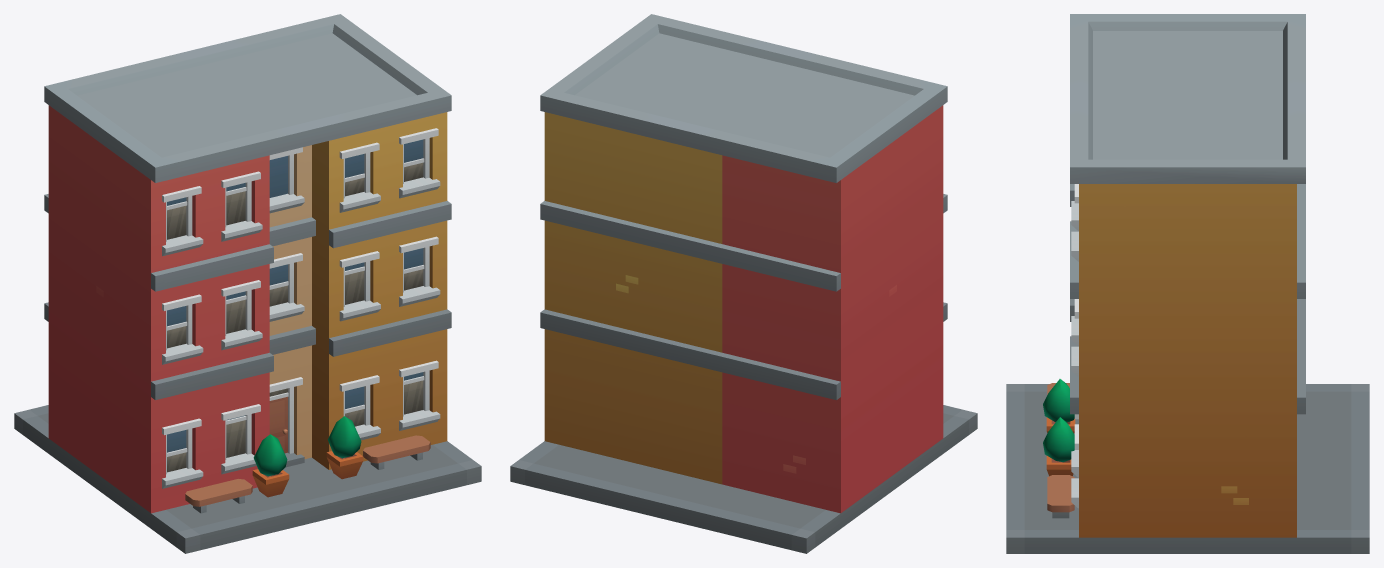
The model's file is building_free_model_b_b_b_b_b.glb.
3 renders of one model, left to right at view 1: azimuth 30°, elevation 25°; view 2: azimuth 150°, elevation 25°; view 3: azimuth 270°, elevation 25°, orthographic. The views are drawn at different scales.
Parts seen in each view (by area): view 1: building_F; view 2: building_F; view 3: building_F.
Part boxes in pixels (x1,y1,x2,y2): building_F: [14, 14, 481, 553]; building_F: [510, 14, 977, 553]; building_F: [1006, 14, 1369, 553].
Size of the model in its own units: 2.01 by 2.35 by 2.
Materials: 1 (1 with a texture image).
